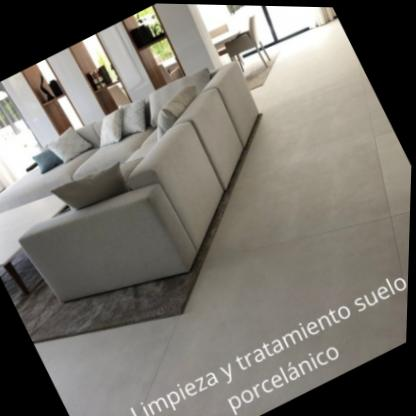Carpet: (11, 210, 223, 345)
Ceramic floor: (38, 17, 412, 416)
